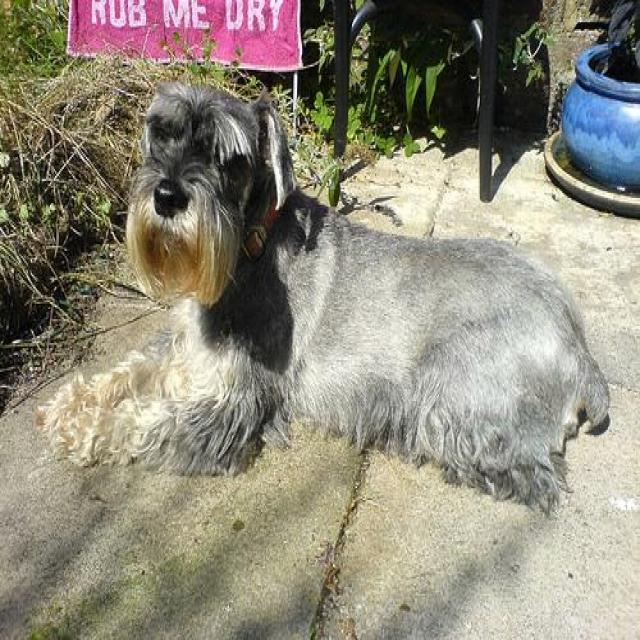standard_schnauzer: (36, 78, 610, 520)
